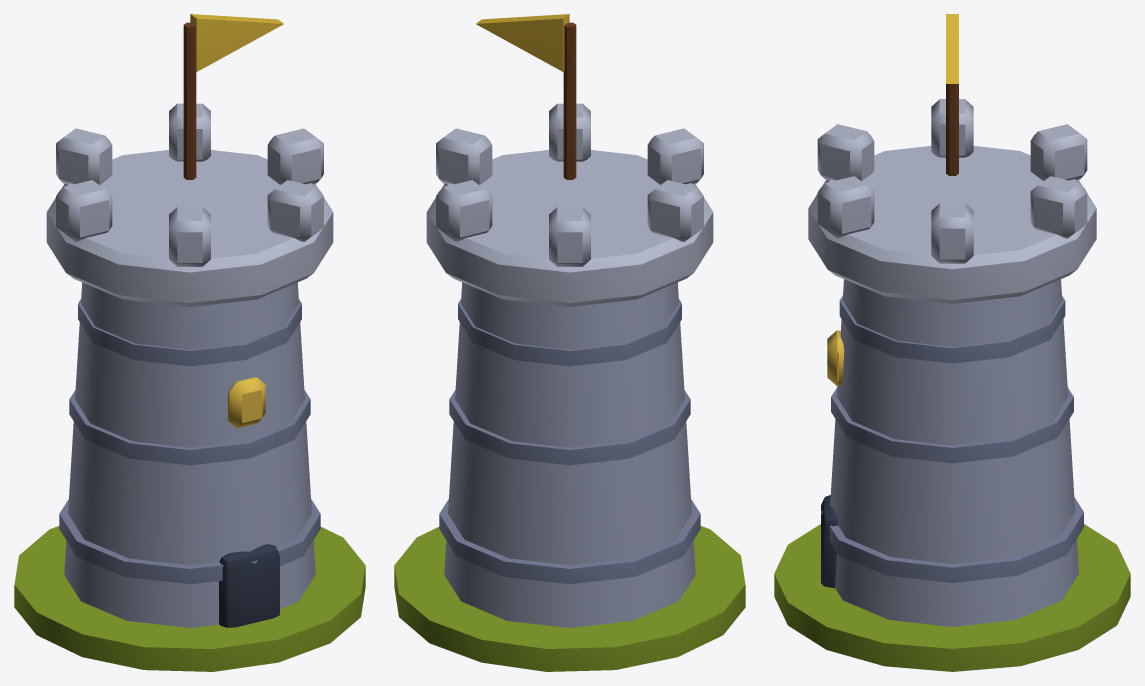
Rendered from ui_tower.glb.
3 renders of one model, left to right at view 1: azimuth 30°, elevation 25°; view 2: azimuth 150°, elevation 25°; view 3: azimuth 270°, elevation 25°, orthographic.
Visible parts, largest first — view 1: body; view 2: body; view 3: body.
Part boxes in pixels (box(x1,y1,x2,y2)): body: box(14, 14, 365, 671); body: box(394, 14, 745, 671); body: box(774, 14, 1130, 671).
Size of the model in its own units: 0.42 by 0.76 by 0.42.
